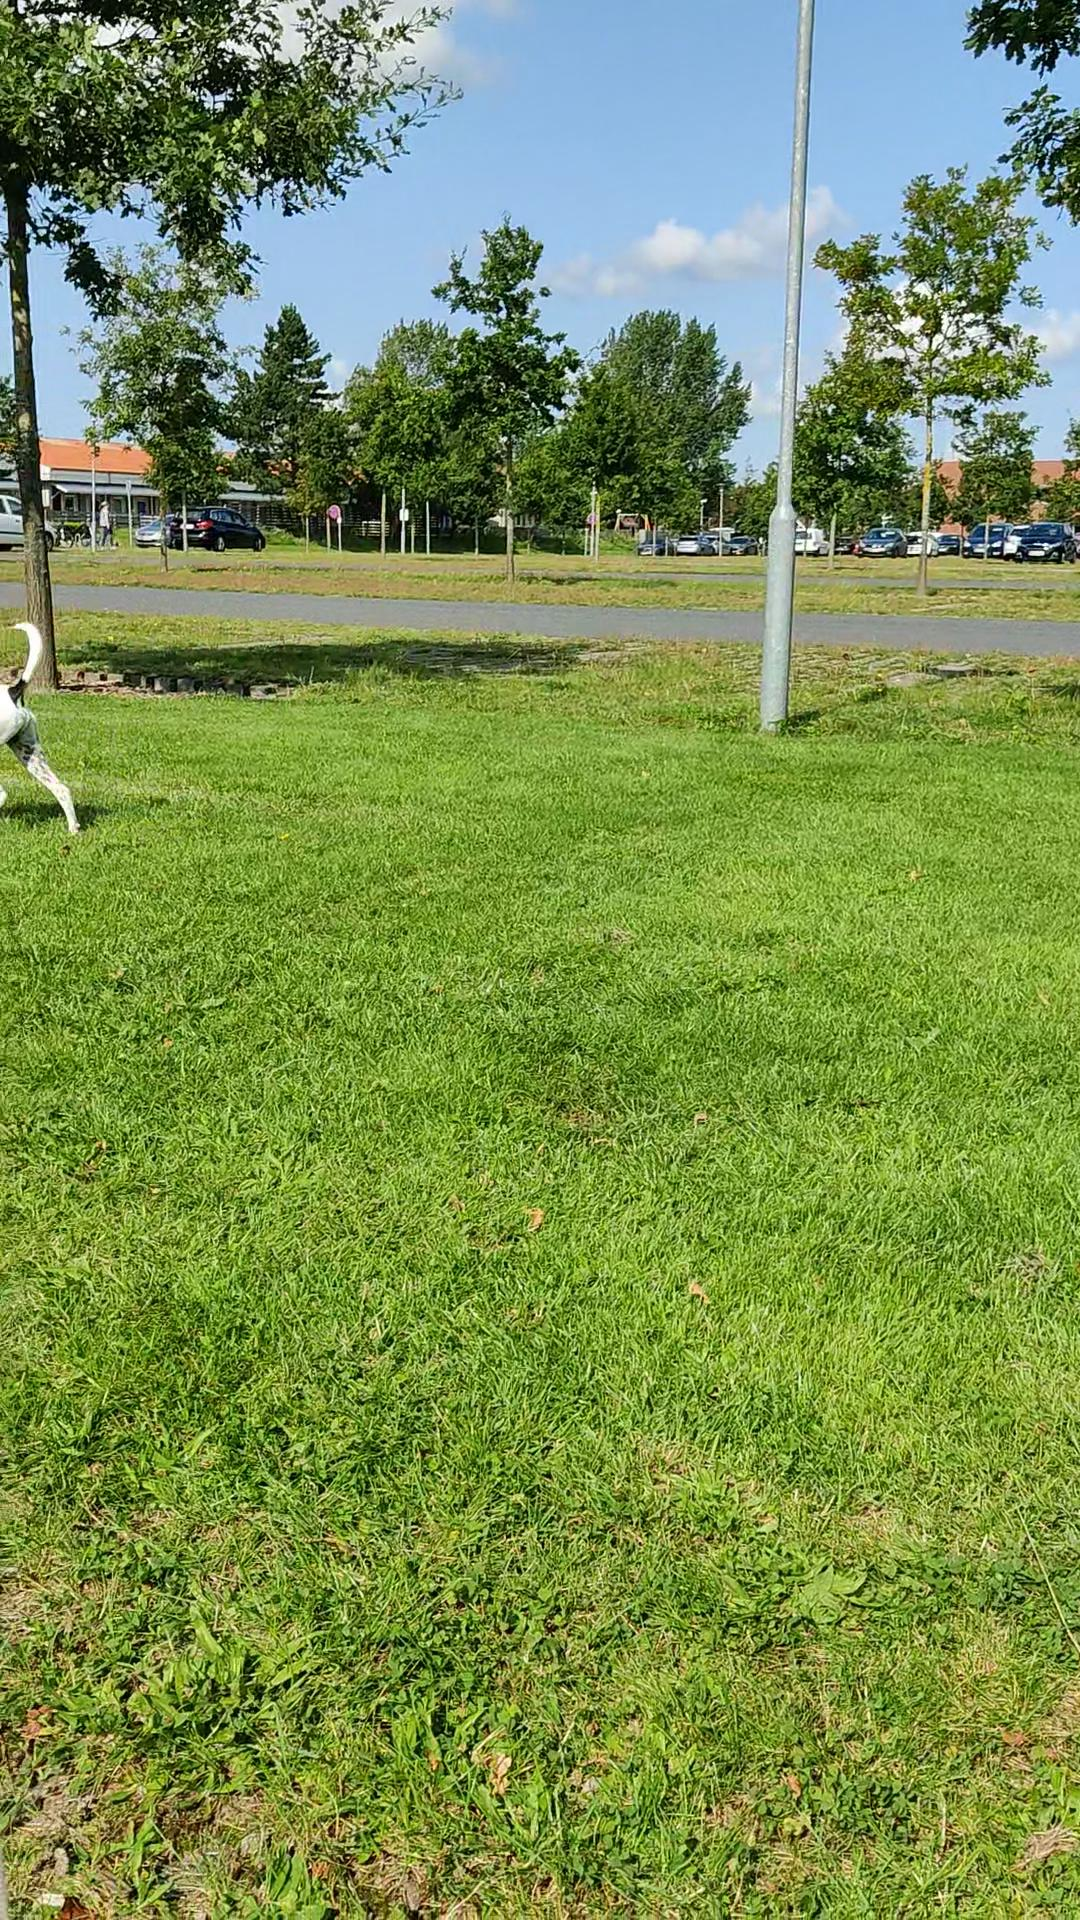Dog: (0, 618, 80, 836)
